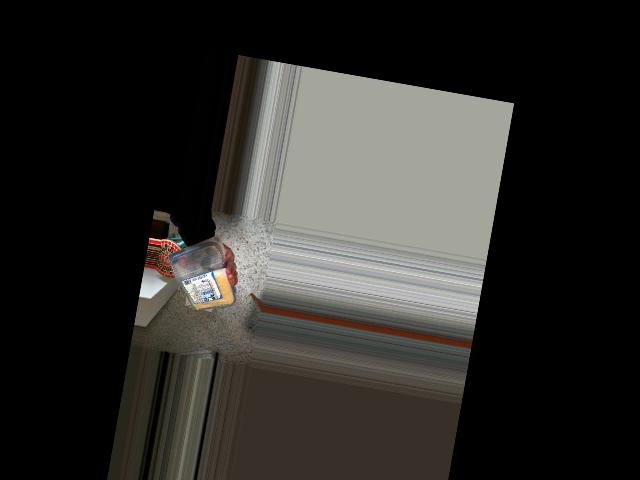cheese: (158, 237, 236, 321)
